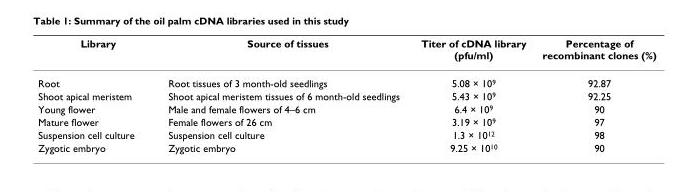table: (37, 36, 655, 153)
table column: (150, 36, 409, 153), (409, 36, 533, 153), (533, 36, 655, 153), (37, 36, 150, 153)
table column header: (37, 36, 655, 68)
table row: (37, 36, 655, 68), (37, 68, 655, 89), (37, 89, 655, 102), (37, 102, 655, 115), (37, 115, 655, 128), (37, 128, 655, 141), (37, 141, 655, 153)
